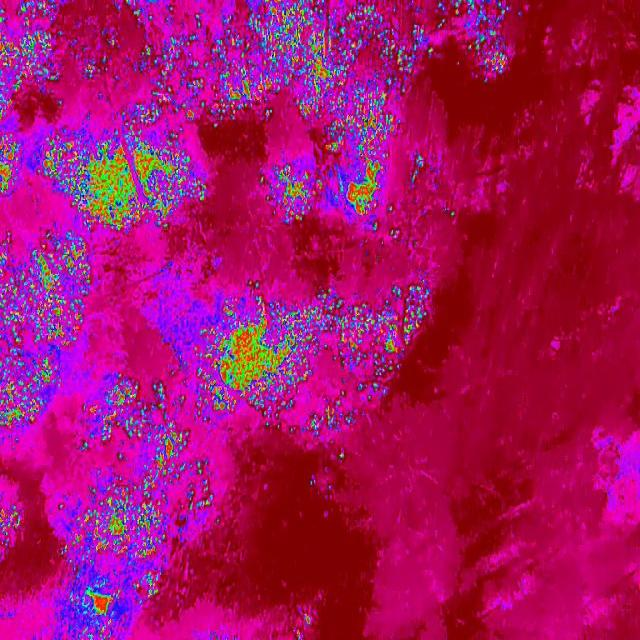fire: (193, 274, 442, 440), (116, 0, 417, 128), (40, 128, 209, 232), (54, 487, 169, 602), (0, 232, 88, 351), (372, 153, 457, 251), (0, 0, 66, 121), (419, 0, 512, 82), (82, 372, 166, 452), (254, 158, 328, 226), (328, 79, 396, 152), (0, 348, 56, 428), (133, 427, 194, 494), (336, 155, 388, 223), (0, 130, 24, 205), (78, 583, 118, 623), (190, 458, 218, 510), (0, 499, 23, 561), (82, 55, 109, 86), (298, 611, 316, 631), (334, 448, 349, 462)
